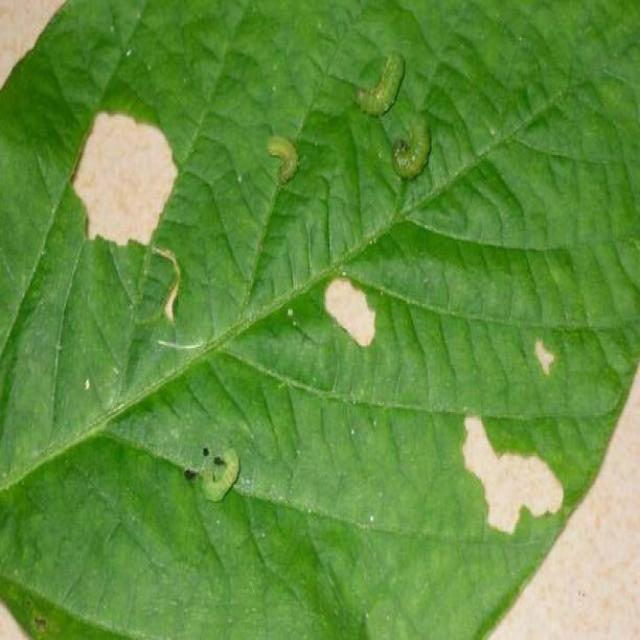armyworm: (355, 55, 413, 133), (390, 118, 437, 194), (259, 126, 311, 194), (197, 446, 251, 500)
